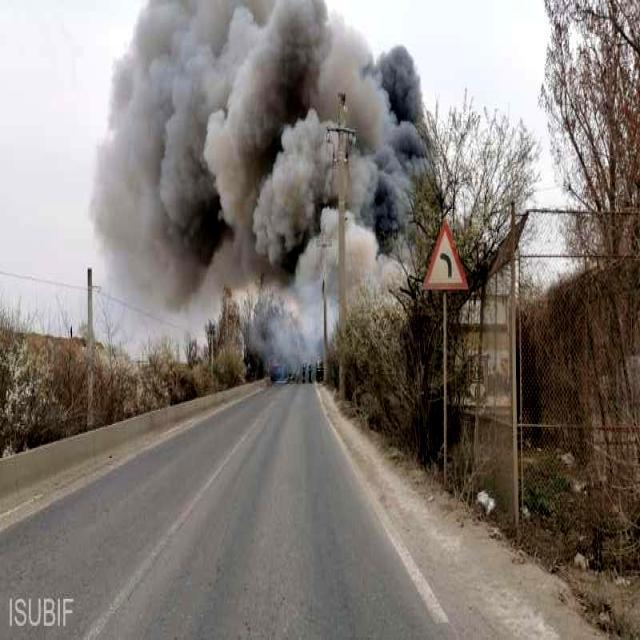Smoke: (90, 4, 490, 352)
